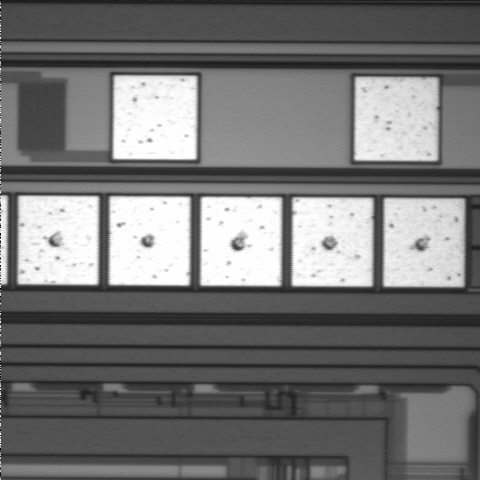pad: (200, 197, 282, 286), (109, 196, 190, 286), (18, 196, 99, 285), (113, 75, 197, 160), (292, 198, 373, 286), (384, 198, 464, 287), (355, 77, 438, 161)
